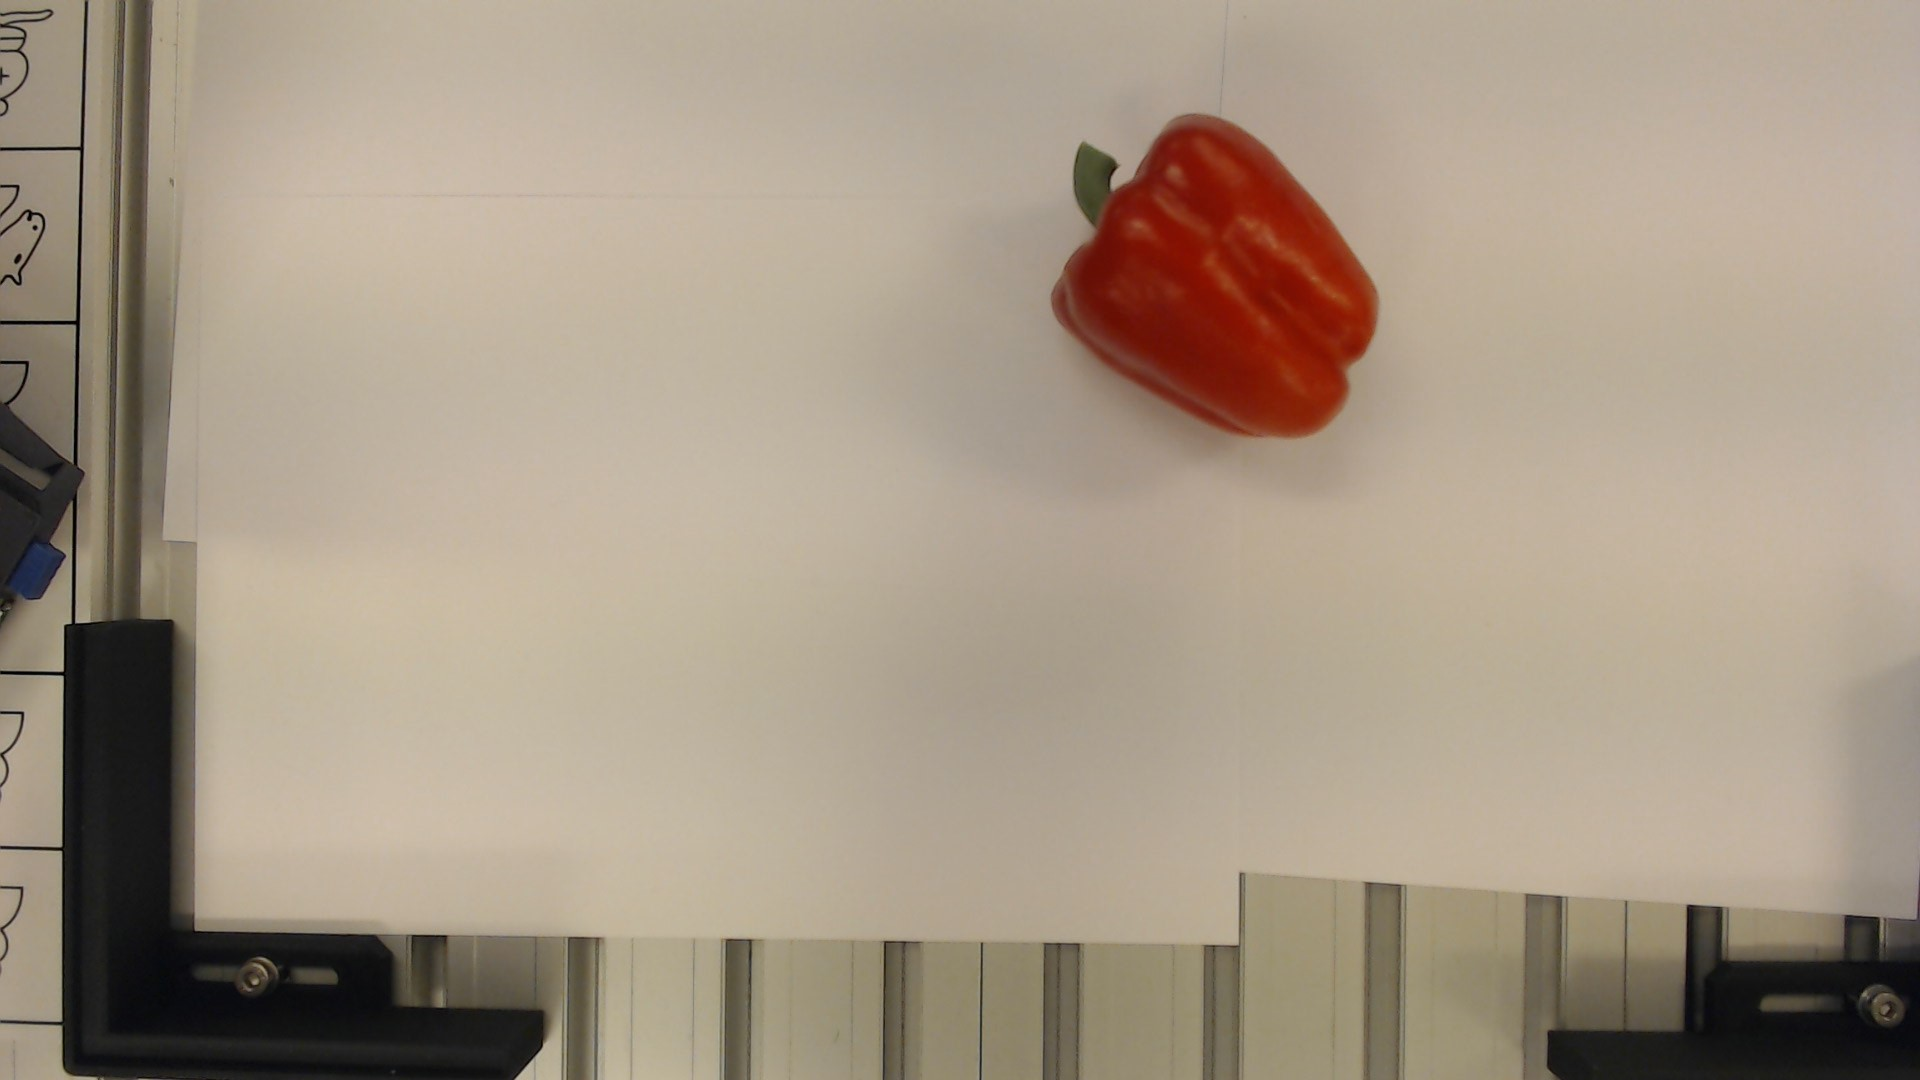Red Bell Pepper: (1039, 103, 1390, 443)
